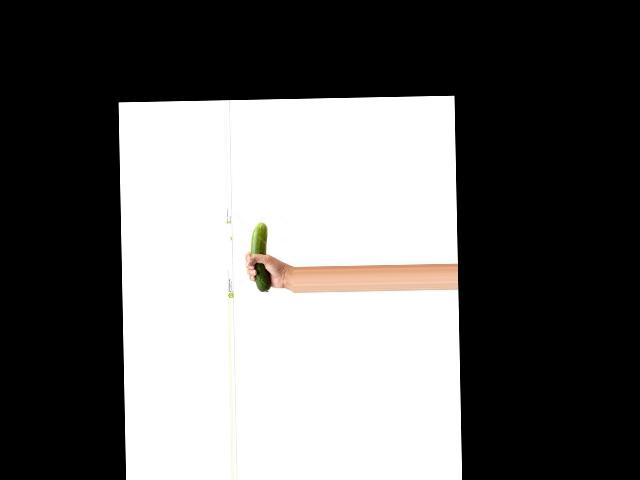cucumber: (249, 222, 270, 291)
